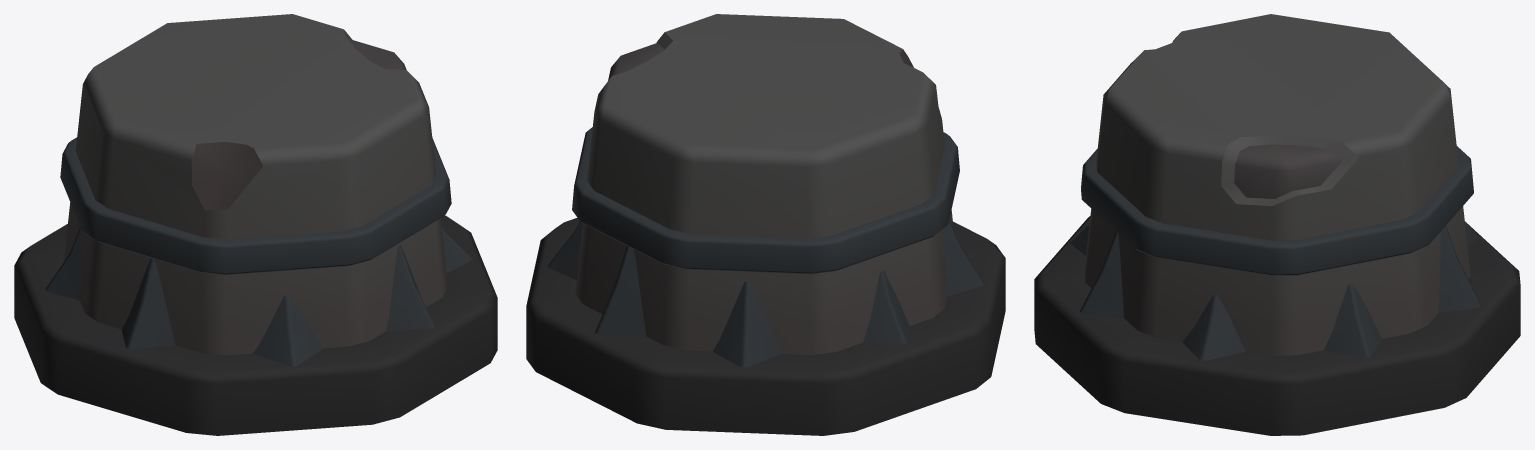
File: inferno-base-small-001.glb
3 views of the same model, side by side, from view 1: azimuth 30°, elevation 25°; view 2: azimuth 150°, elevation 25°; view 3: azimuth 270°, elevation 25° (orthographic).
Visible parts, largest first — view 1: BaseSmall_001; view 2: BaseSmall_001; view 3: BaseSmall_001.
Boxes of the visible parts, left/top/right/bottom form: BaseSmall_001: left=14, top=14, right=497, bottom=435; BaseSmall_001: left=526, top=14, right=1005, bottom=435; BaseSmall_001: left=1034, top=14, right=1520, bottom=435.
Bounding box in the file's own units: 6.88 × 4.02 × 6.88.
1 material, 1 textured.
